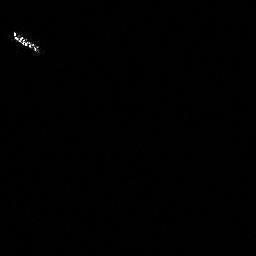ship: (8, 29, 52, 60)
